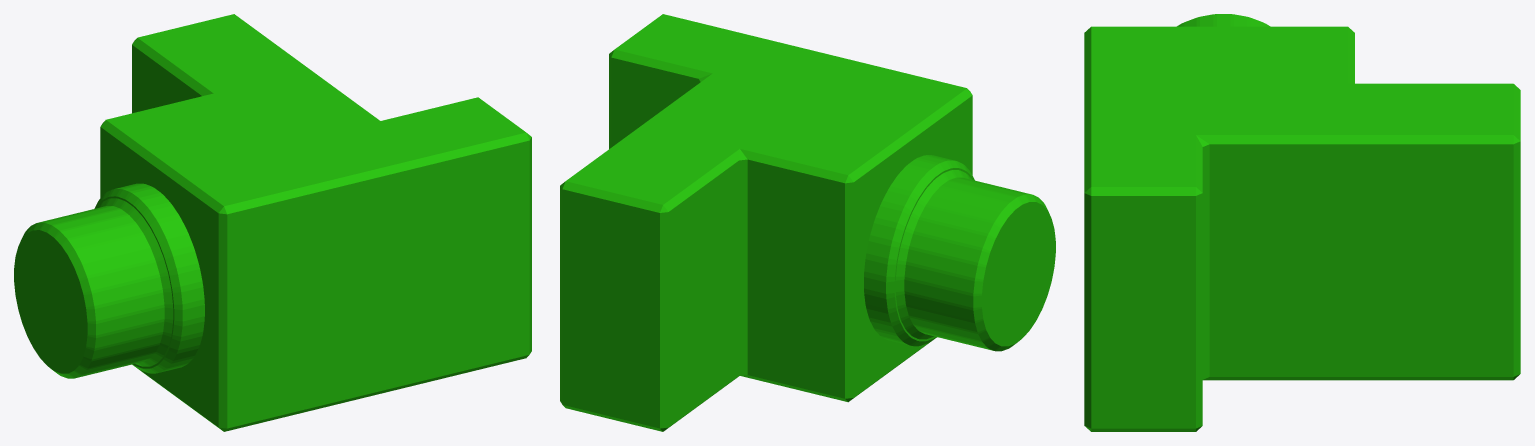
The model's file is assembly_sensor_part_green.dae.
3 renders of one model, left to right at view 1: azimuth 30°, elevation 25°; view 2: azimuth 150°, elevation 25°; view 3: azimuth 270°, elevation 25°, orthographic. The views are drawn at different scales.
Parts seen in each view (by area): view 1: inputSensor; view 2: inputSensor; view 3: inputSensor.
Part boxes in pixels (box(x1,y1,x2,y2)): inputSensor: box(14, 14, 531, 431); inputSensor: box(560, 14, 1055, 431); inputSensor: box(1084, 14, 1520, 431).
Bounding box in the file's own units: 0.1313 × 0.1087 × 0.0674.
